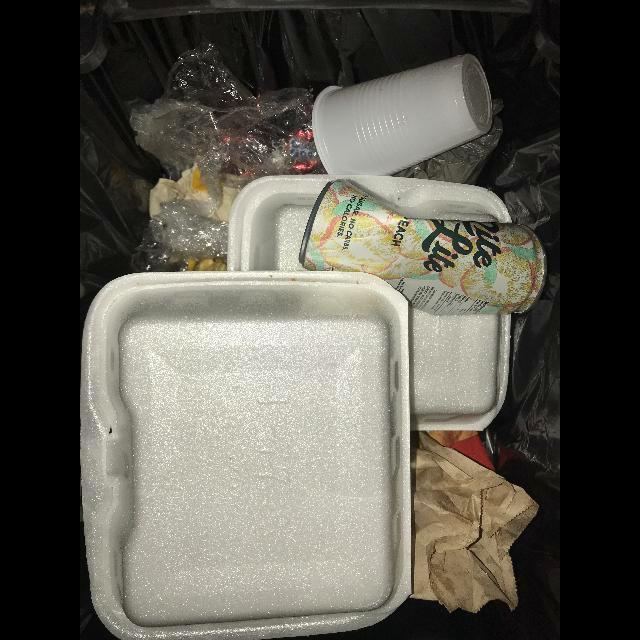aluminum: (299, 179, 547, 316)
paper: (410, 430, 540, 615)
plastic_bag: (130, 46, 320, 271)
